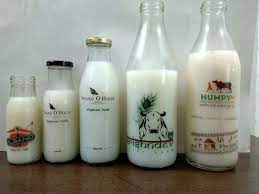milk: (182, 2, 245, 174), (124, 1, 176, 169), (77, 37, 118, 168), (39, 57, 78, 168), (6, 70, 40, 166)
